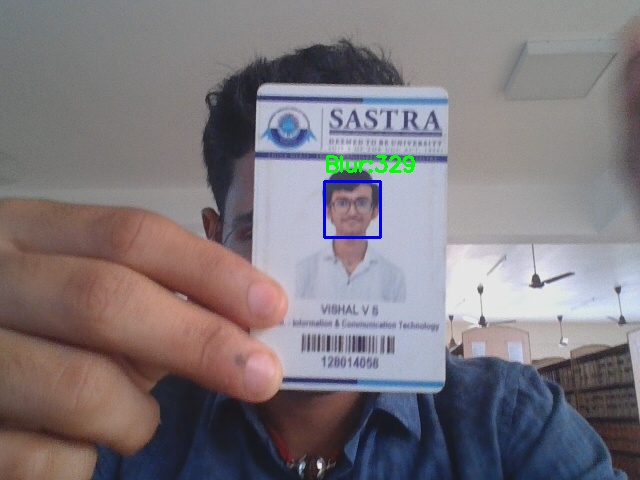fake: (324, 181, 380, 237)
